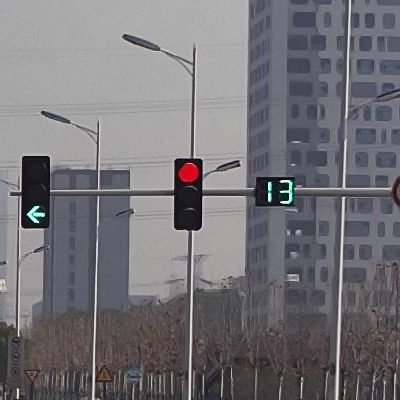green_arrow_left: (21, 156, 49, 228)
red_circle: (177, 158, 199, 232)
